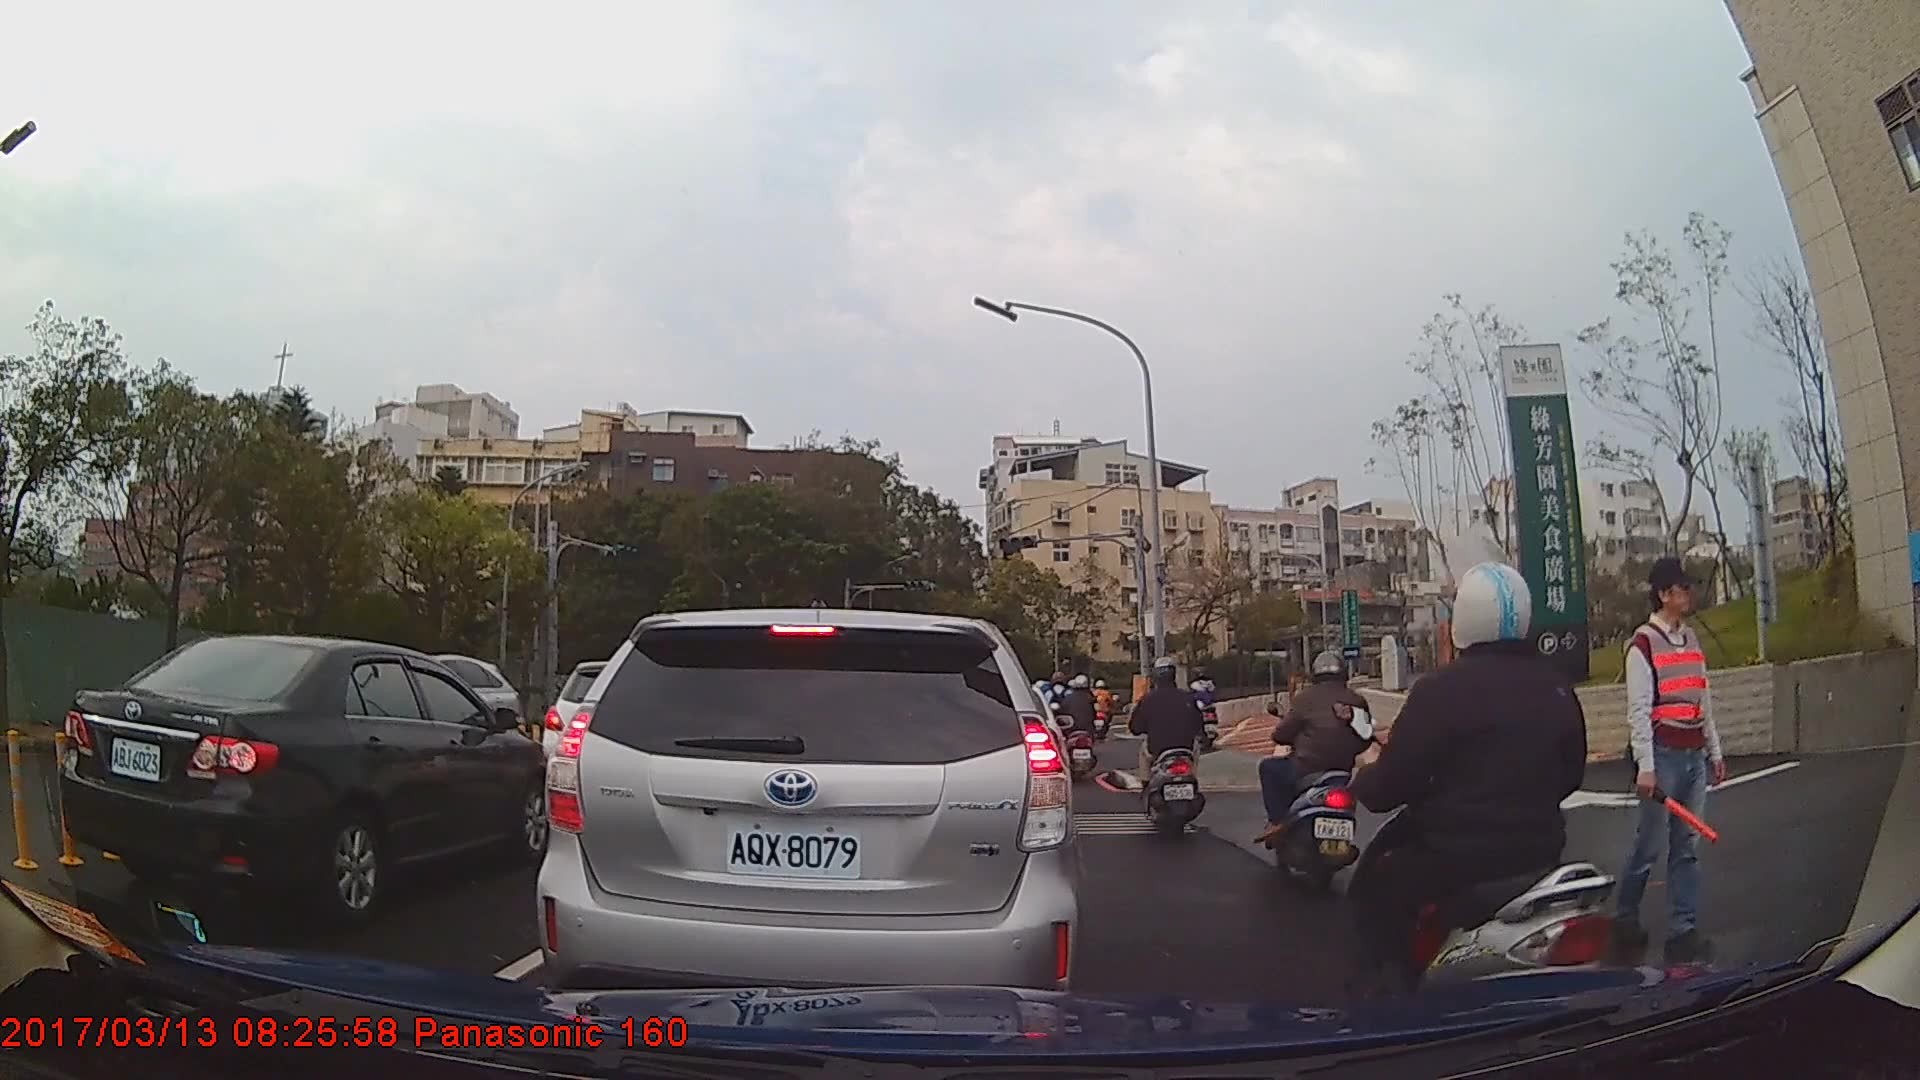pedestrian: (1625, 554, 1722, 954)
rider: (1346, 560, 1617, 1051), (1260, 647, 1378, 895), (1131, 650, 1207, 842), (1064, 675, 1101, 784), (1186, 666, 1221, 752), (1085, 676, 1116, 741)
vehicle: (535, 606, 1078, 1027), (61, 632, 553, 916)
